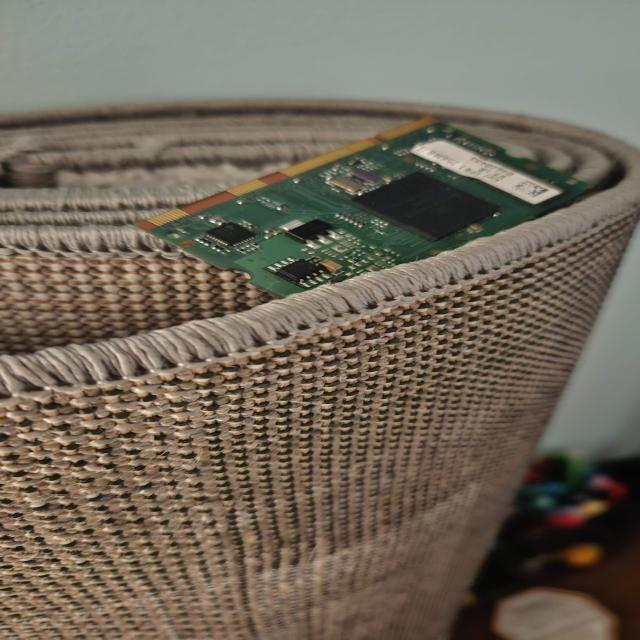som: (114, 115, 604, 304)
